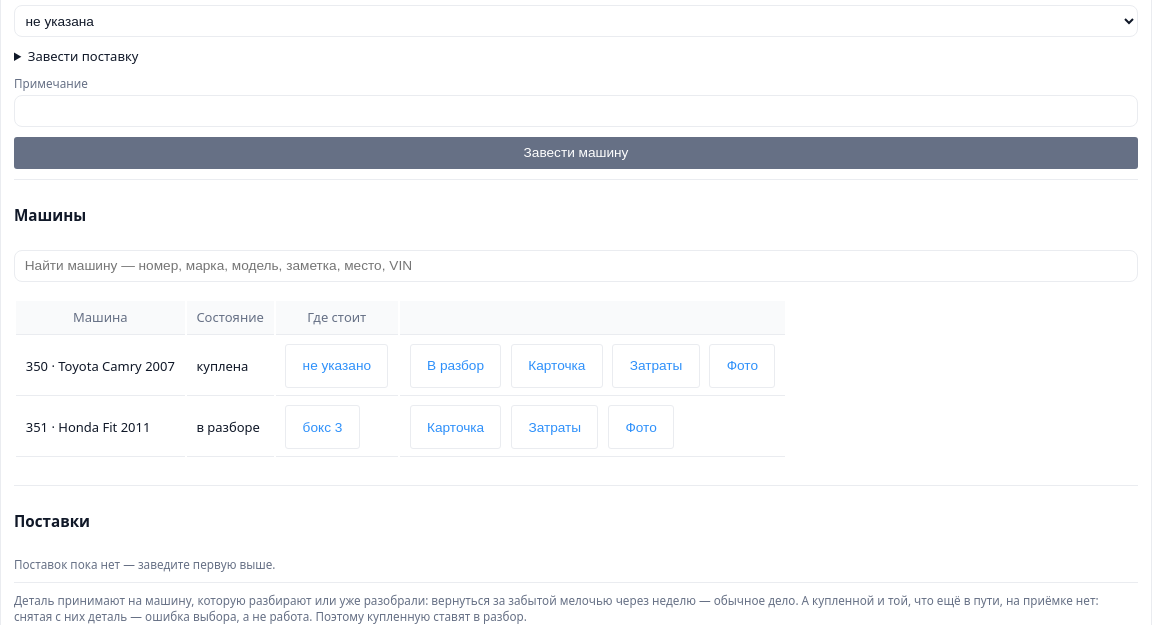
Test: где стоит машина › ищется вместе с остальными полями строки
(page scrolled)
expect the button "бокс 3" is shown: met, box [285,405,360,449]
Type "бокс" into the search field with placeholder "Найти машину — номер, марка, модель, заметка, место, VIN" at (576, 266), box [14,250,1138,282]
(page scrolled)
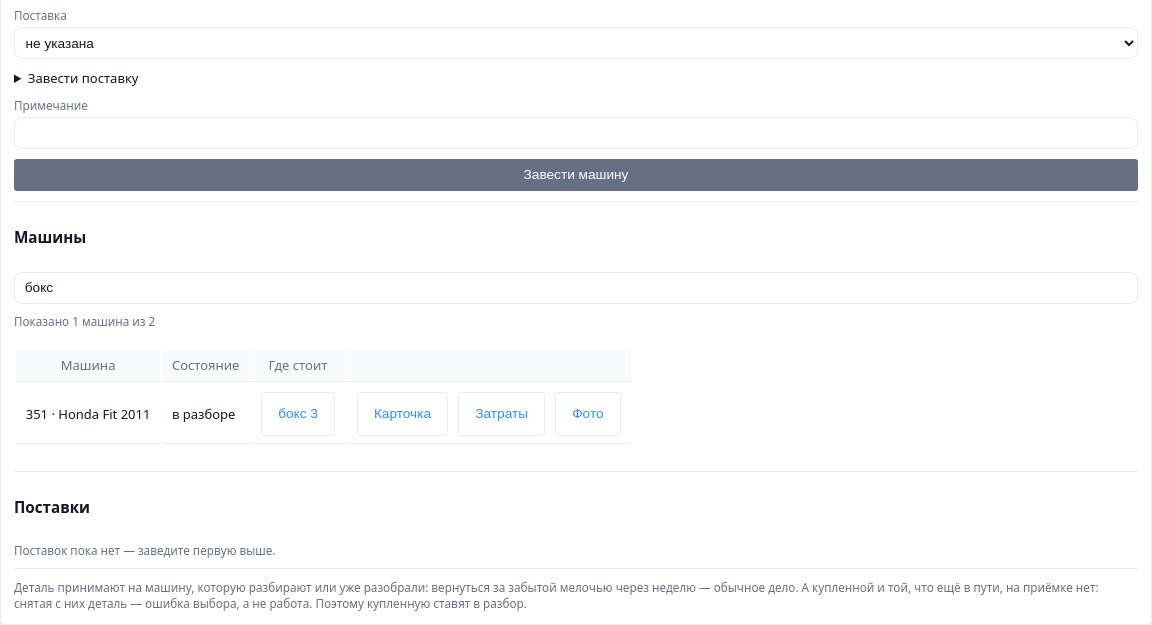
expect the text "351 · Honda Fit 2011" is shown: met, box [16,384,160,444]
expect the text "Toyota Camry" is gone: met
